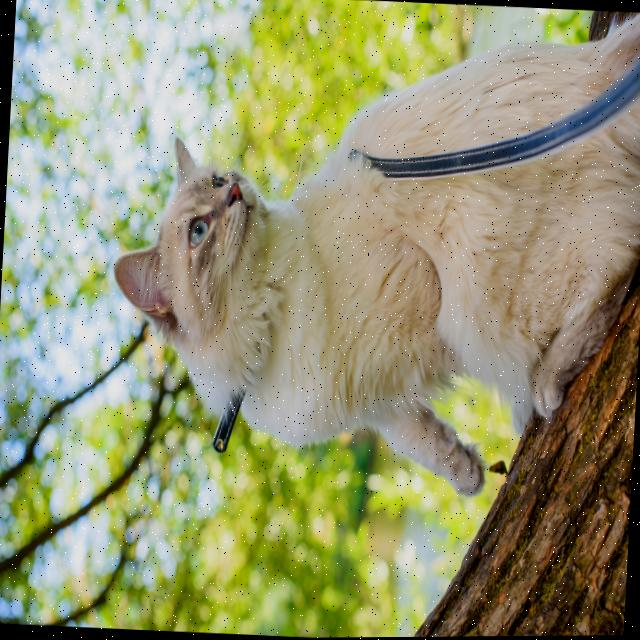Neva Masquerade: (96, 0, 640, 511)
